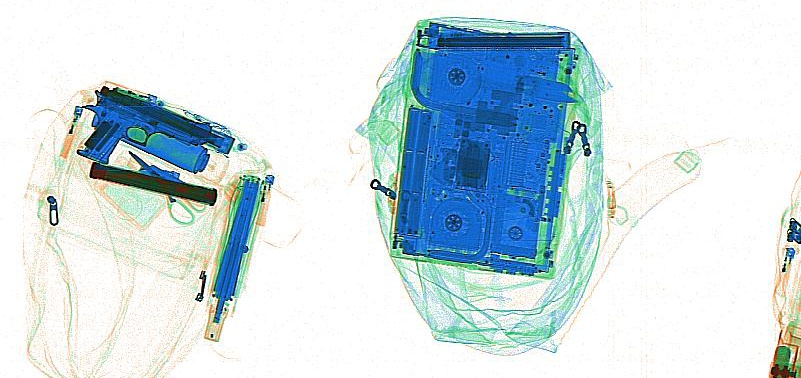knife: (513, 73, 576, 104)
lighter: (59, 103, 85, 158), (102, 79, 157, 105), (253, 172, 275, 226)
pressure: (90, 99, 228, 183)
scissors: (125, 151, 205, 226)
